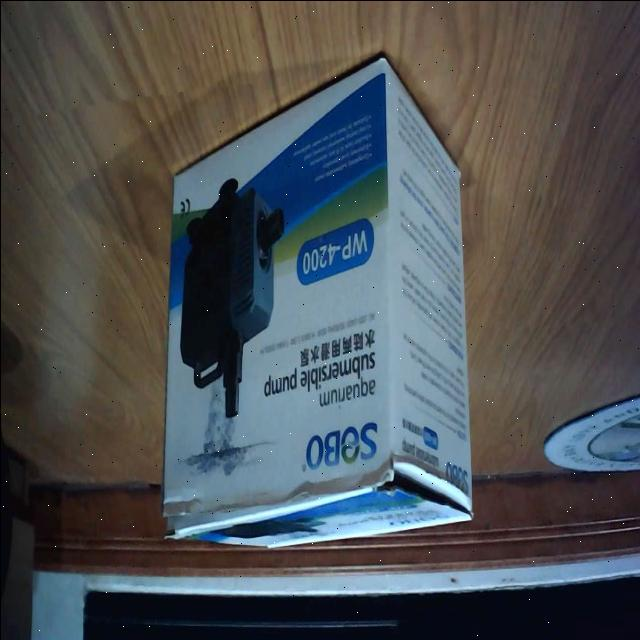SOBO_WP_4200: (166, 49, 478, 570)
